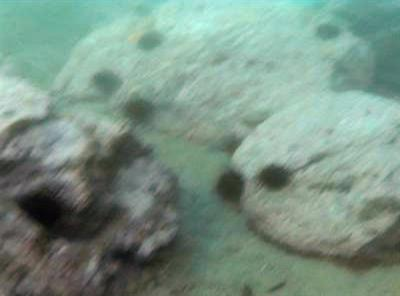urchin: (23, 192, 70, 235), (213, 166, 251, 204), (258, 161, 297, 191), (126, 96, 158, 124), (91, 66, 124, 93), (312, 21, 345, 42), (136, 32, 162, 50)
